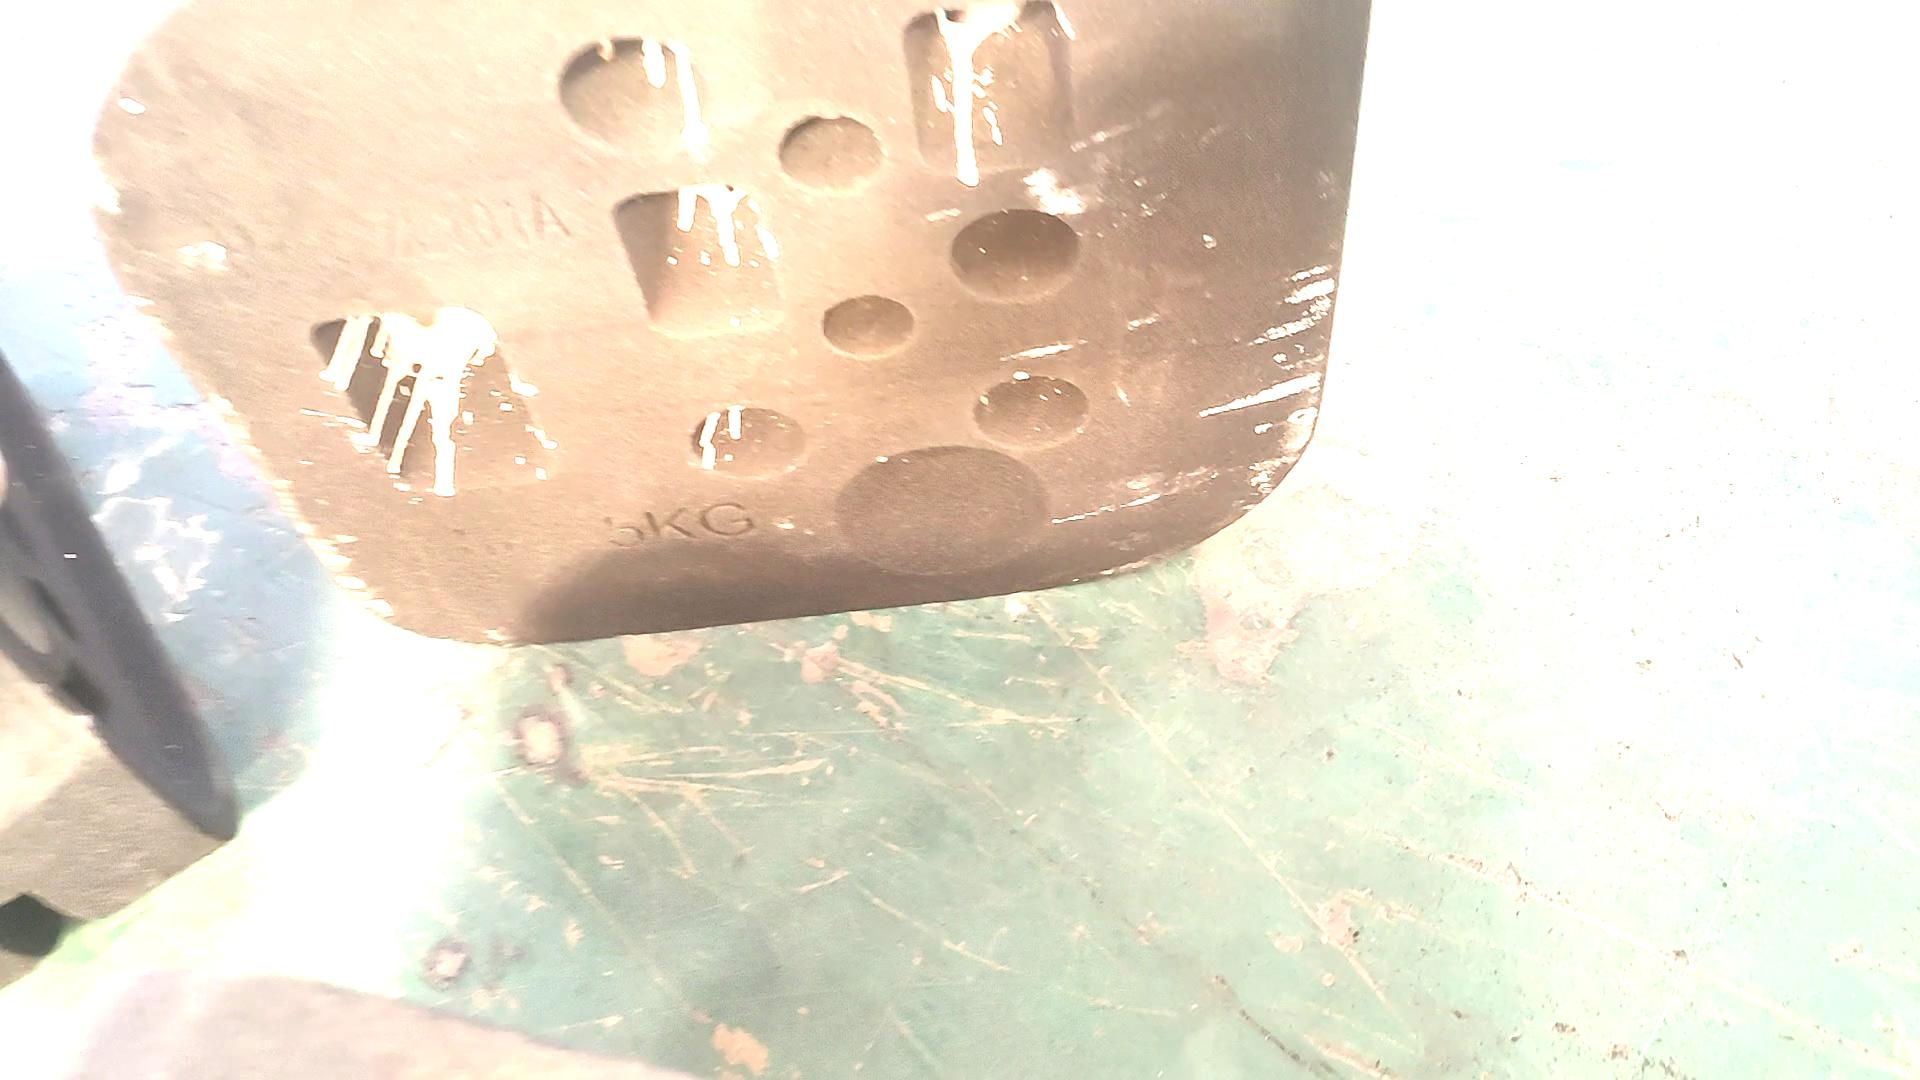pouring hole: (835, 444, 1048, 575)
